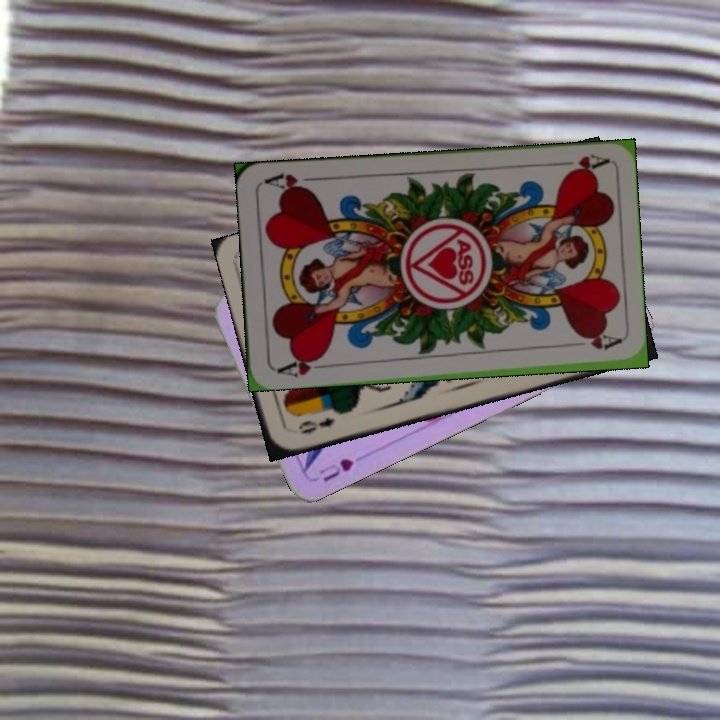EO: (294, 413, 337, 437)
HA: (273, 351, 331, 380), (550, 150, 609, 177)
HU: (315, 454, 357, 485)
